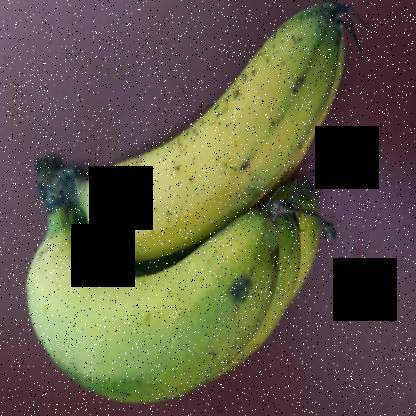freshripe: (19, 197, 293, 415)
ripe: (60, 2, 342, 269)
